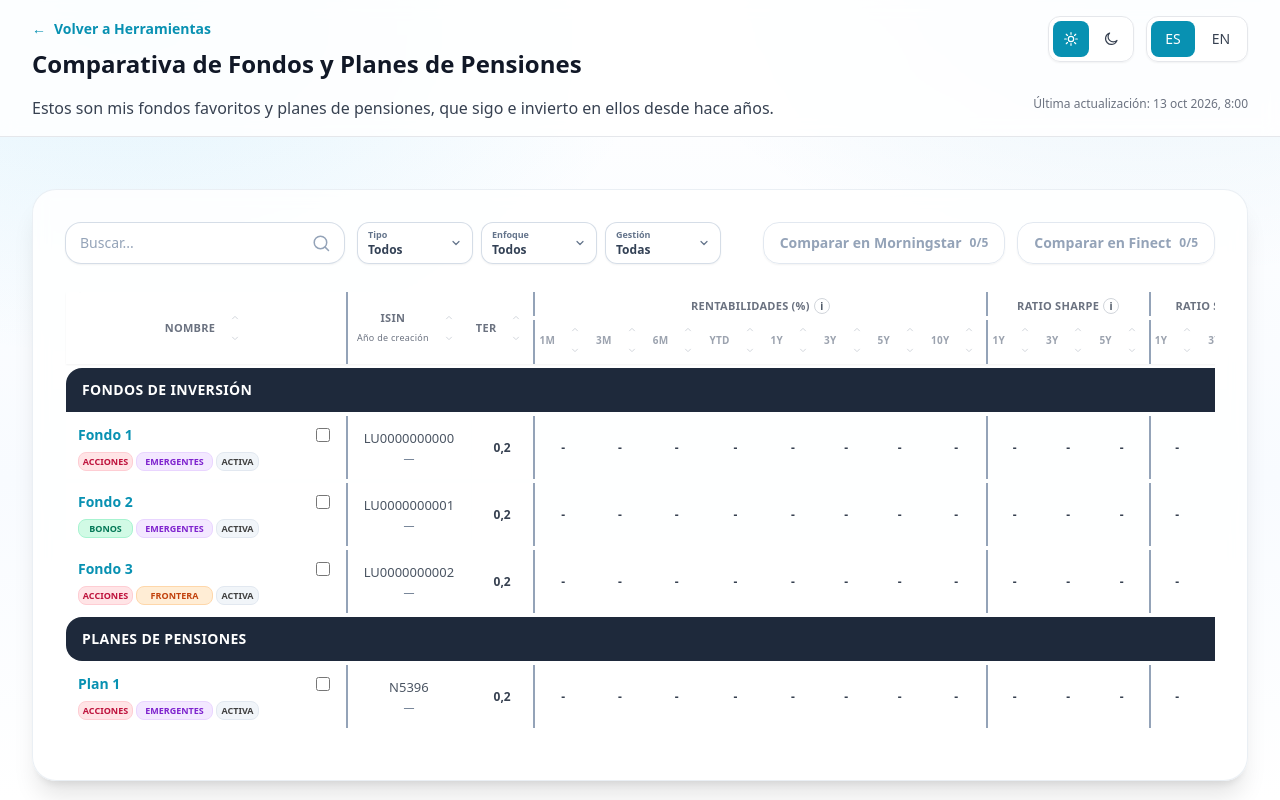
it: category labels › filters corrected categories across funds and plans and preserves the filter in English
What coordinates should you click on to do the following:
click the button with aria-label "Filtrar por Emergentes: Fondo 1"
I would click on:
 (174, 462)
Its box is [136,452,213,471].
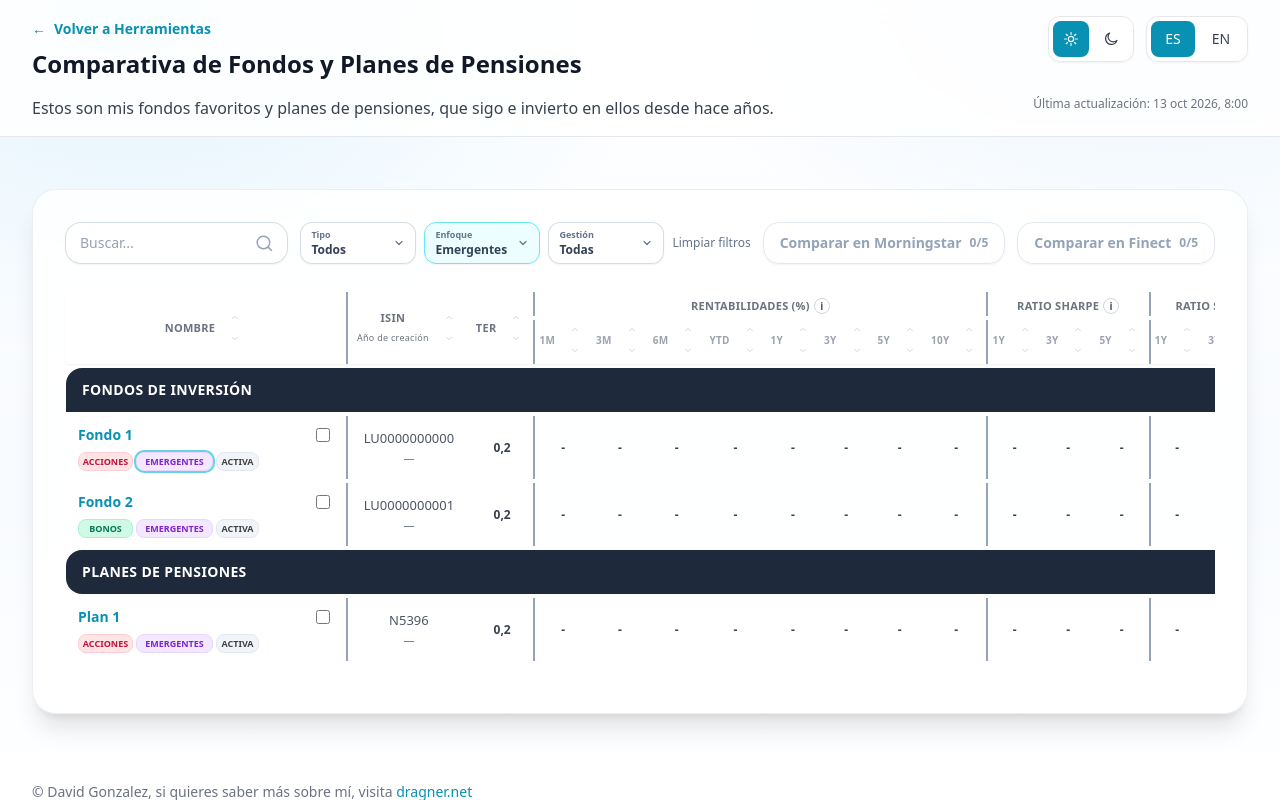
What coordinates should you click on to do the following:
click the button "EN"
I would click on:
 (1221, 39)
Its box is [1199,21,1243,57].
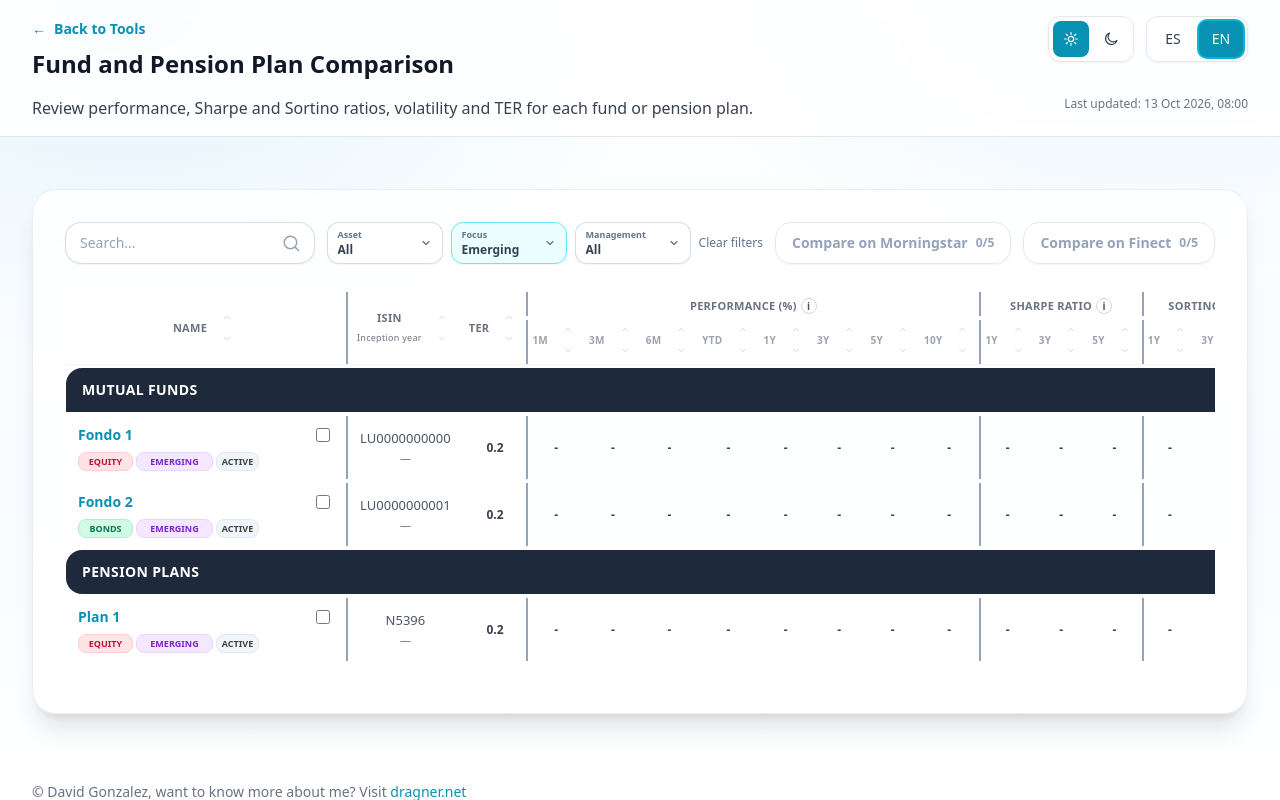
Result: the button with aria-label "Filter by Emerging: Fondo 1" is shown at [136,452,213,471]
